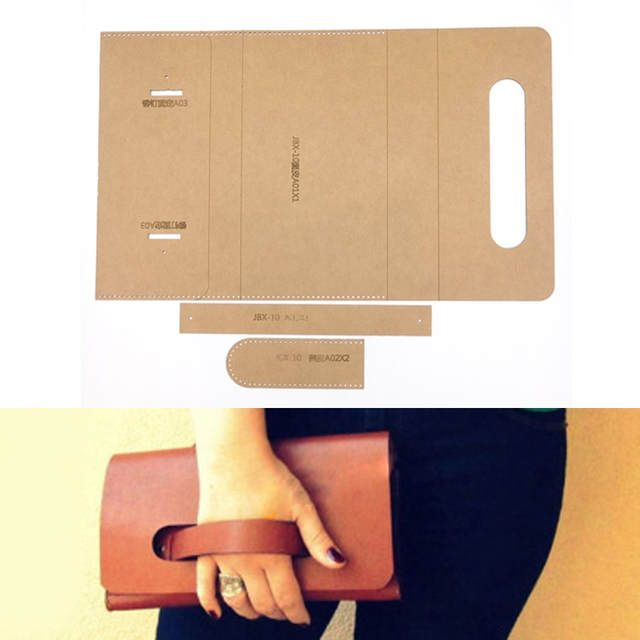cuero: (101, 431, 403, 612)
